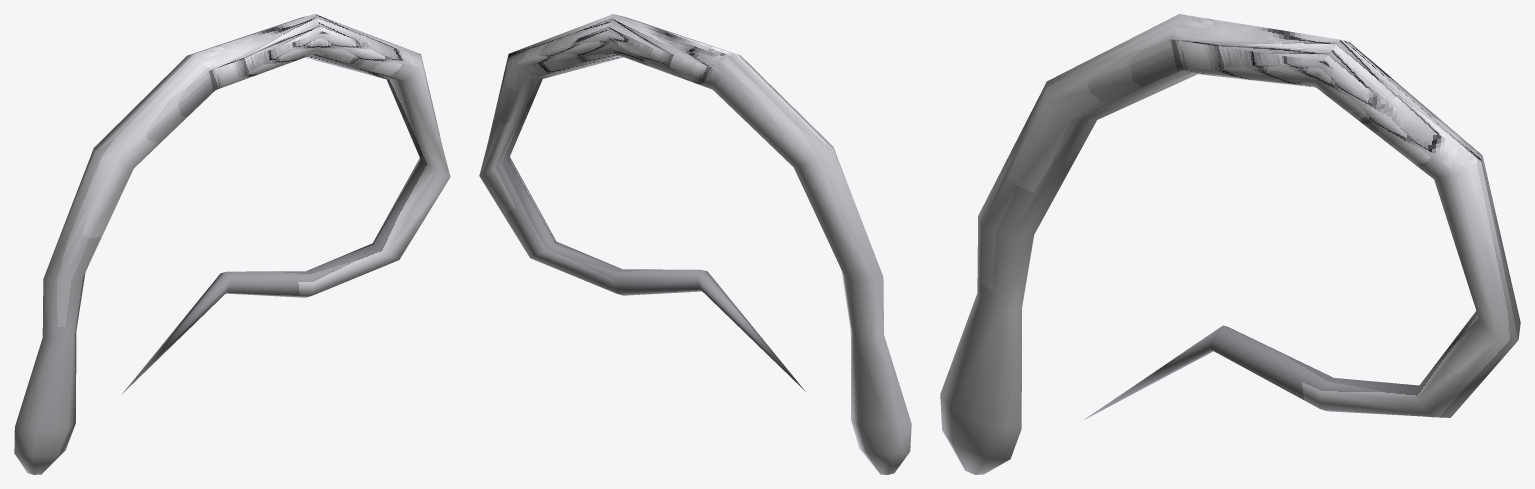
Rendered from snake_000012.obj.
3 views of the same model, side by side, from view 1: azimuth 30°, elevation 25°; view 2: azimuth 150°, elevation 25°; view 3: azimuth 330°, elevation 25° (orthographic). The views are drawn at different scales.
Visible parts, largest first — view 1: Cylinder; view 2: Cylinder; view 3: Cylinder.
Part boxes in pixels (x1,y1,x2,y2): Cylinder: (14, 14, 450, 474); Cylinder: (479, 14, 911, 474); Cylinder: (940, 14, 1520, 474).
Size of the model in its own units: 4.36 by 3.78 by 0.3671.
